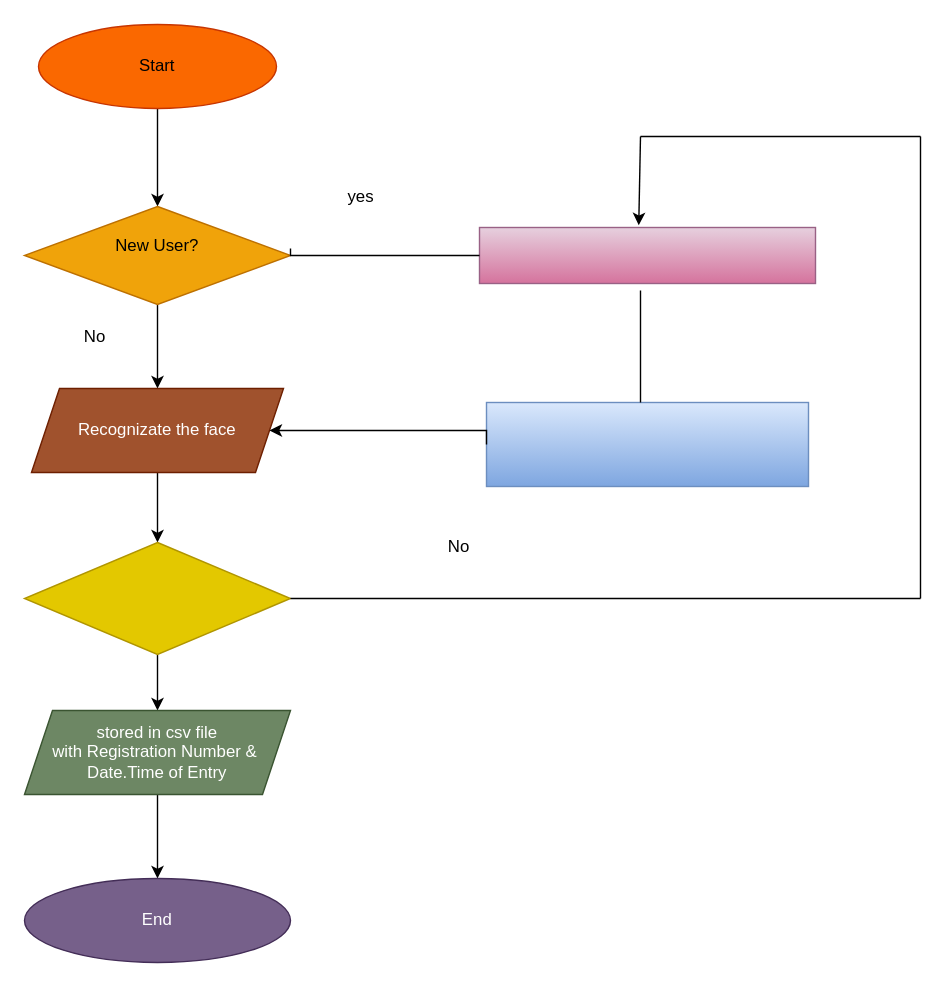
Image size: 946x987. Some labels were removed from this diagram. The shapes that lost their labels are listed below. From the top down, each one's centre as x and y in pixels, then its label:
At (x=647, y=255): "Give Your Photograph".
At (x=646, y=443): "Store the face data in folder on your name".
At (x=156, y=597): "Face Recognized".
